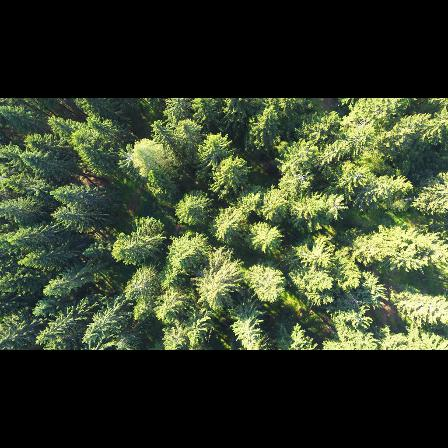Sick: (116, 143, 139, 170)
